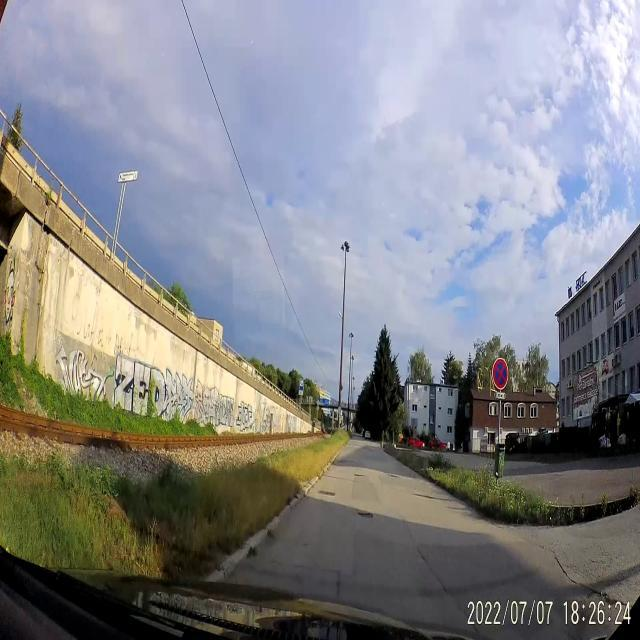Manhole: (316, 489, 336, 501)
Pothole: (358, 507, 374, 522), (352, 471, 367, 479)
